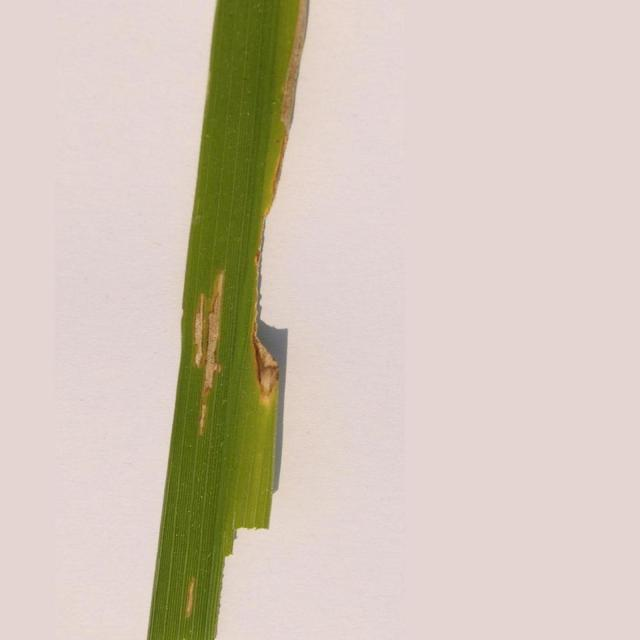leaf blight: (244, 1, 314, 405), (181, 246, 230, 443), (173, 568, 210, 632)
